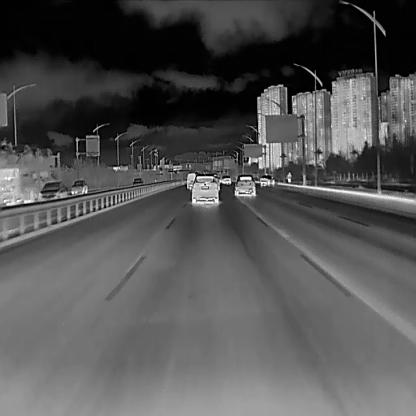car: (188, 174, 218, 204), (36, 181, 67, 200), (233, 174, 256, 196), (70, 178, 86, 194), (259, 175, 274, 186), (186, 172, 196, 188), (130, 177, 144, 185), (221, 174, 229, 184), (285, 171, 291, 182)
